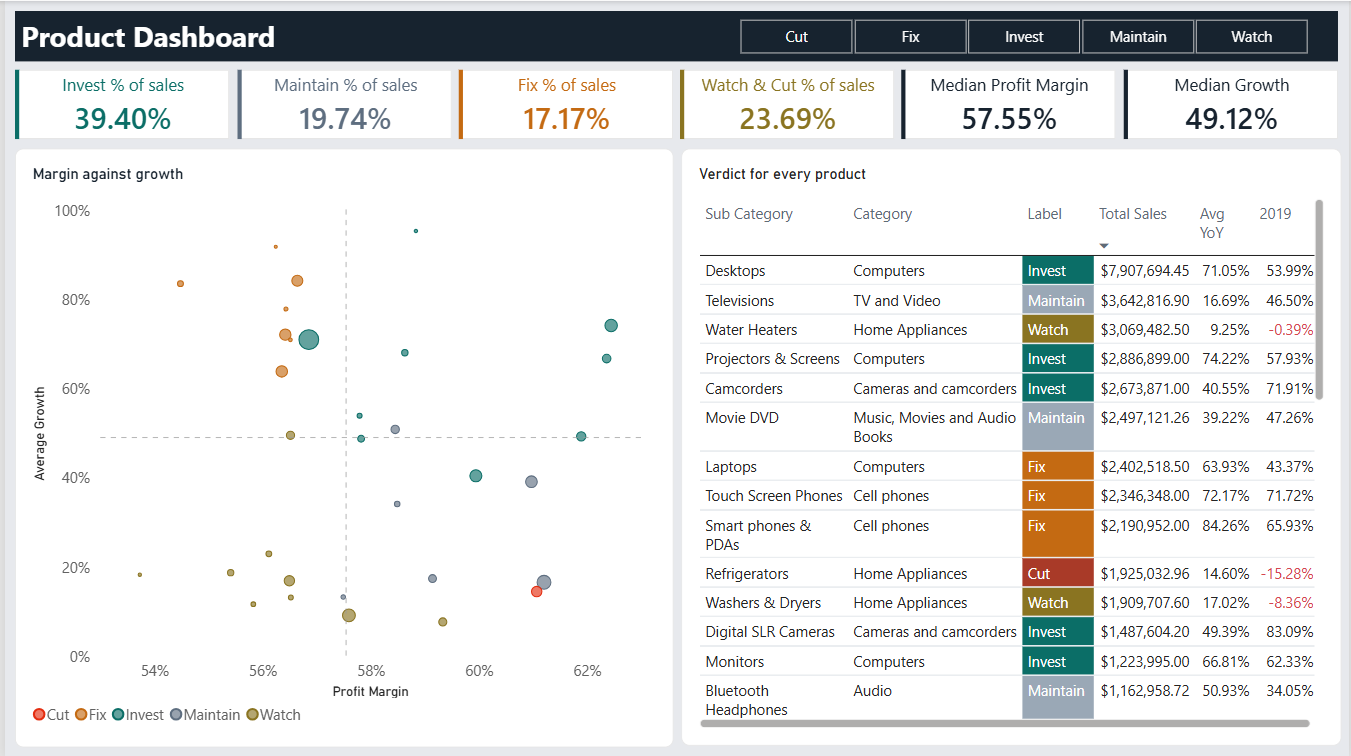

This screenshot's page, from the dashboard's own definition file:
{"tool":"powerbi","page":{"name":"Product","canvas":[1280,720],"ordinal":2},"visuals":[{"type":"group","id":"g1","title":"Background","box":[10,10,1260,700],"z":0},{"type":"shape","box":[10,10,1260,48],"z":0,"group":"g1"},{"type":"textbox","box":[15,15,500,40],"z":1000},{"type":"slicer","fields":{"Values":["SubcategoryScorecard.Label"]},"box":[680,16,580,36],"z":2000},{"type":"cardVisual","fields":{"Data":["SubcategoryScorecard.Invest share"]},"box":[10,66,204,66],"z":3000},{"type":"scatterChart","title":"Margin against growth","fields":{"Category":["SubcategoryScorecard.Sub Category"],"Series":["SubcategoryScorecard.Label"],"Size":["Avg(SubcategoryScorecard.Total Sales)"],"X":["SubcategoryScorecard.Profit Margin"],"Y":["SubcategoryScorecard.Avg YoY"]},"box":[9.5,140.5,627.4,570.2],"z":5000},{"type":"tableEx","title":"Verdict for every product","fields":{"Values":["SubcategoryScorecard.Sub Category","CategoryScorecard.Category","SubcategoryScorecard.Label","SubcategoryScorecard.Total Sales","SubcategoryScorecard.Avg YoY","SubcategoryScorecard.2019"]},"box":[644,140.5,629,569.1],"z":6000},{"type":"cardVisual","fields":{"Data":["SubcategoryScorecard.Maintain share"]},"box":[221,66,204,66],"z":7000},{"type":"cardVisual","fields":{"Data":["SubcategoryScorecard.Fix share"]},"box":[432,66,204,66],"z":8000},{"type":"cardVisual","fields":{"Data":["SubcategoryScorecard.Watchcut share"]},"box":[643,66,204,66],"z":9000},{"type":"cardVisual","fields":{"Data":["SubcategoryScorecard.Median Margin"]},"box":[854,66,204,66],"z":10000},{"type":"cardVisual","fields":{"Data":["SubcategoryScorecard.Median Growth"]},"box":[1066,66,204,66],"z":11000}]}

Visuals, with their boxes in screenshot pixels (x1, y1, x2, y2), scaled from the page's 1280x720 canvas onto the 1351x756 screenshot:
"Background" group: [11,10,1340,746]
shape: [11,10,1340,61]
textbox: [16,16,544,58]
slicer - SubcategoryScorecard.Label: [718,17,1330,55]
cardVisual - SubcategoryScorecard.Invest share: [11,69,226,139]
"Margin against growth" scatterChart: [10,148,672,746]
"Verdict for every product" tableEx: [680,148,1344,745]
cardVisual - SubcategoryScorecard.Maintain share: [233,69,449,139]
cardVisual - SubcategoryScorecard.Fix share: [456,69,671,139]
cardVisual - SubcategoryScorecard.Watchcut share: [679,69,894,139]
cardVisual - SubcategoryScorecard.Median Margin: [901,69,1117,139]
cardVisual - SubcategoryScorecard.Median Growth: [1125,69,1340,139]
